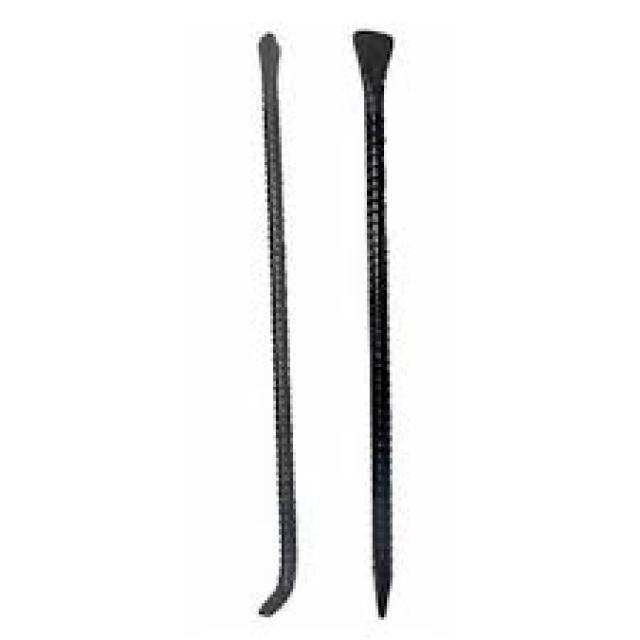Linggis: (340, 7, 422, 640), (238, 27, 320, 624)
